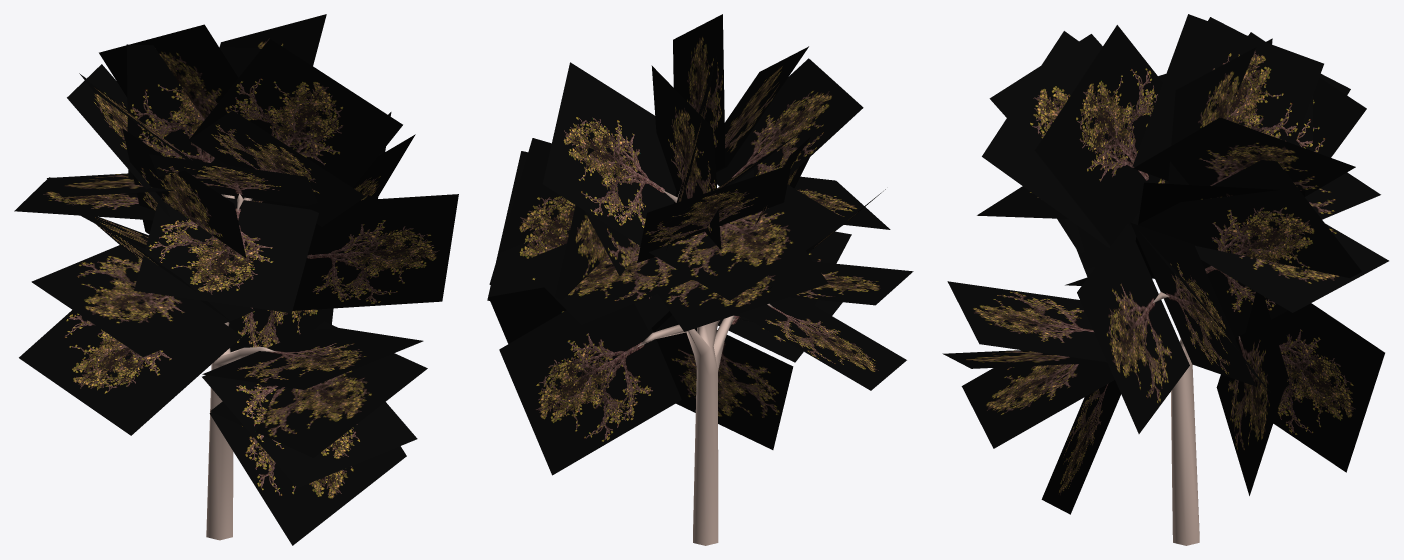
Rendered from tree10.glb.
The picture shows the model from 3 angles, left to right: view 1: azimuth 30°, elevation 25°; view 2: azimuth 150°, elevation 25°; view 3: azimuth 270°, elevation 25°; orthographic projection. The views are drawn at different scales.
Size of the model in its own units: 5.55 by 7.11 by 5.51.
Materials: 2 (1 with a texture image).
